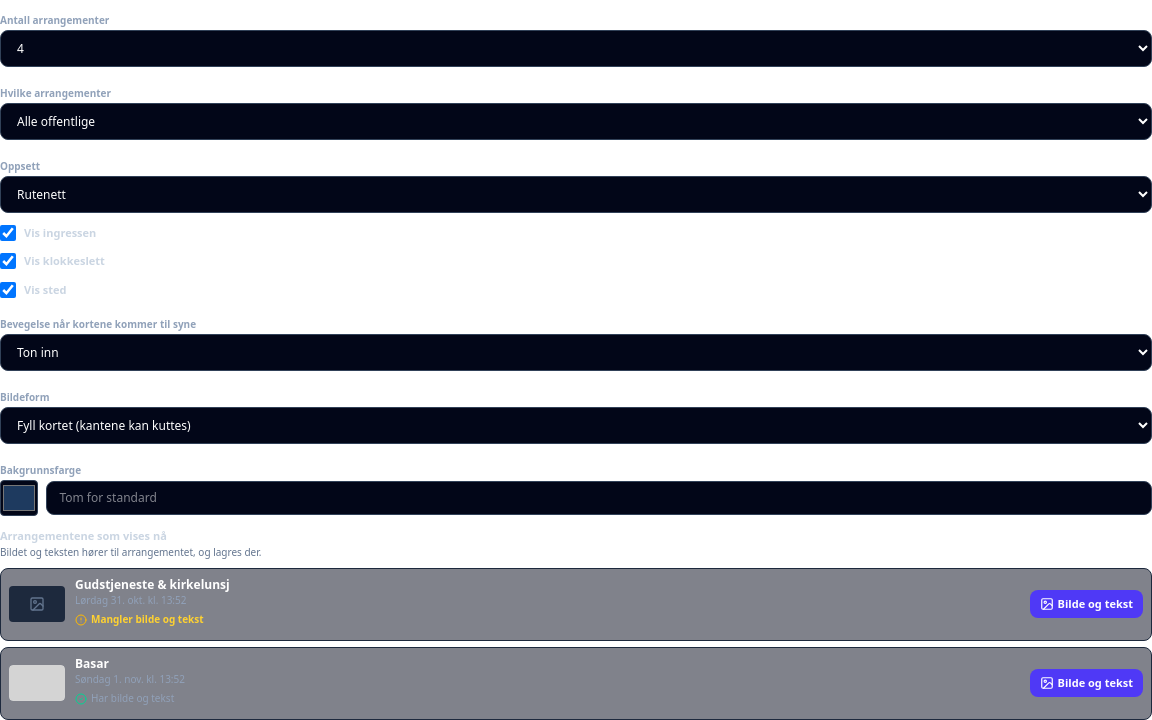
«Hva skjer» i redigeringen av en side › arrangementene som vises, står med det de mangler, og Bilde og tekst lagrer på arrangementet uten å lagre siden
(page scrolled)
Expected: the number of list items is 2, left=0, top=568, right=1151, bottom=640; left=0, top=646, right=1151, bottom=719
Expected: the list item that starts with "Gudstjeneste & kirkelunsj" shows "Mangler bilde og tekst", left=0, top=568, right=1151, bottom=640
Click the button "Bilde og tekst" in the row of "Gudstjeneste & kirkelunsj". click: {"x": 1086, "y": 604}
box: left=1030, top=590, right=1143, bottom=618
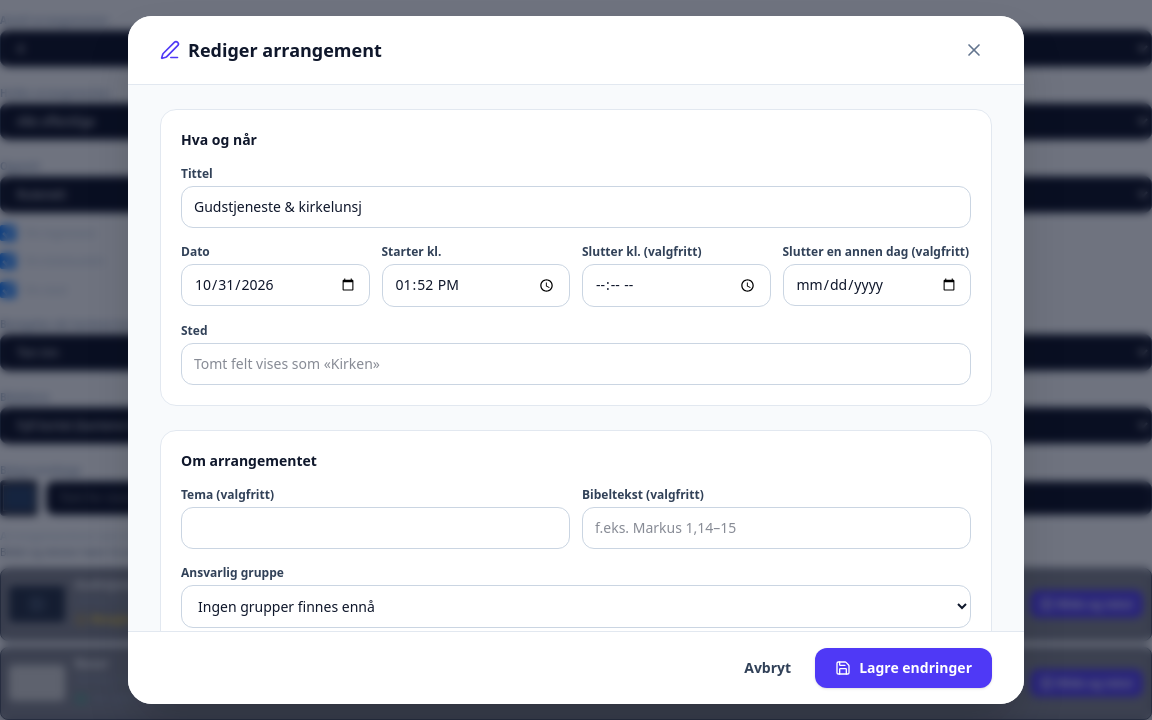
Now the heading "Rediger arrangement" is shown, box left=160, top=36, right=382, bottom=64
Click the button "Lagre endringer". click: {"x": 904, "y": 668}
box: left=815, top=648, right=992, bottom=688
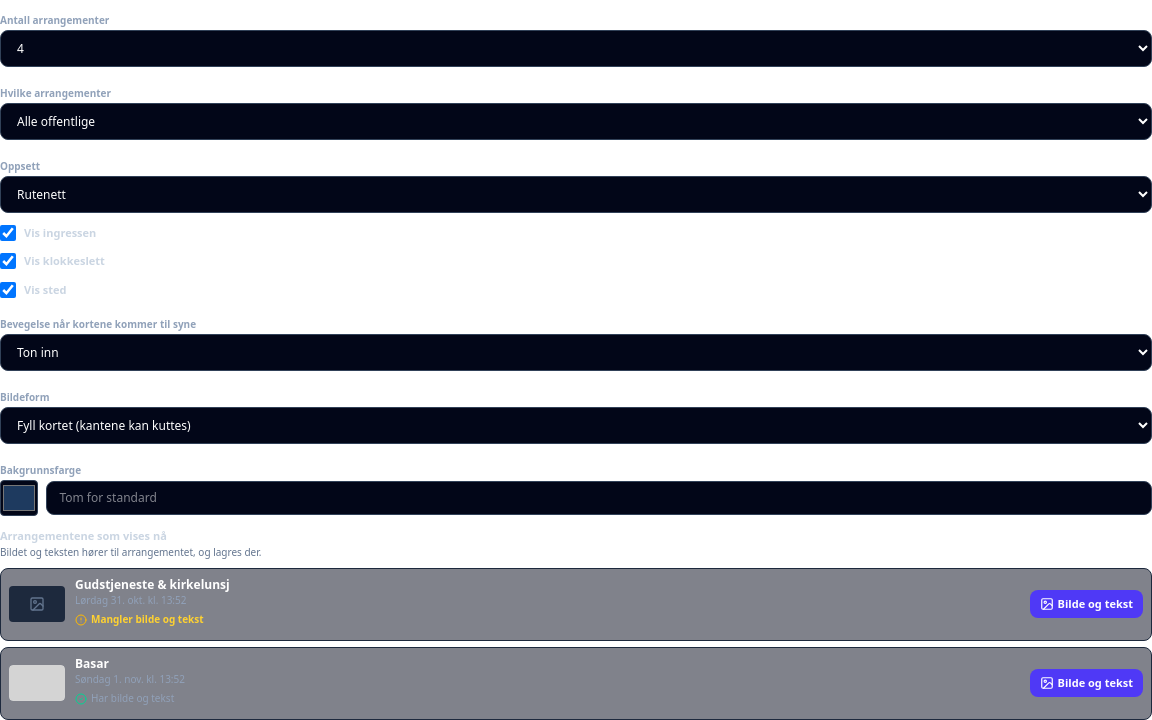
Now the heading "Rediger arrangement" is gone
